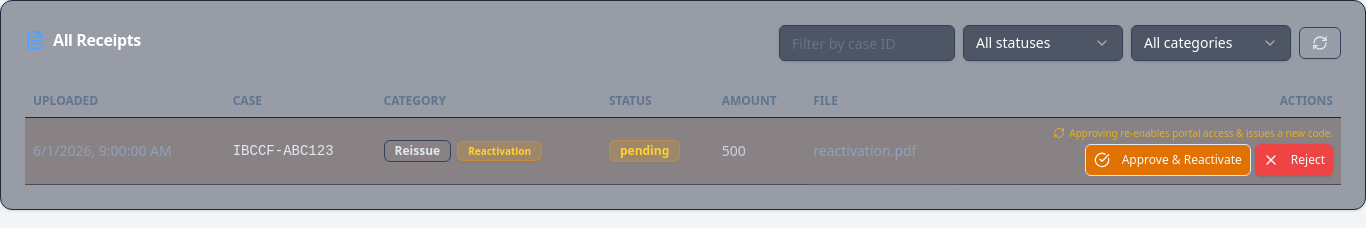
Test: AllReceiptsTab — reactivation receipt reject path › removes Approve and Reject buttons after optimistic flip to rejected status
Step 1. Click the button with test id "btn-all-receipts-reject-deposit-99" → {"x": 1294, "y": 160}, box [1255,144,1333,176]
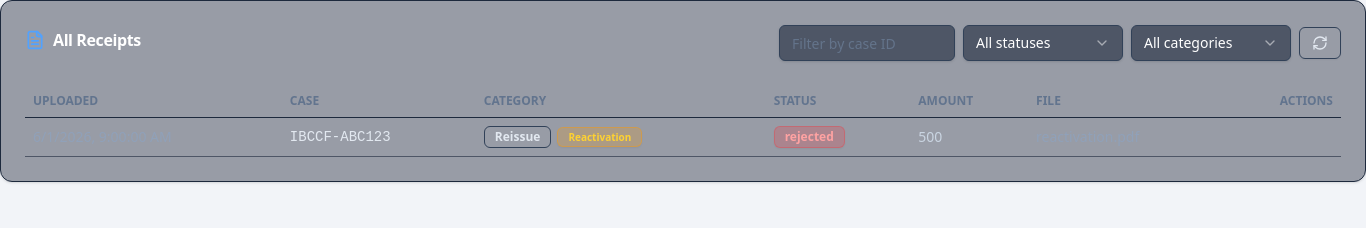
Now the button with test id "btn-all-receipts-reject-deposit-99" is gone
Now the button with test id "btn-all-receipts-approve-deposit-99" is gone
